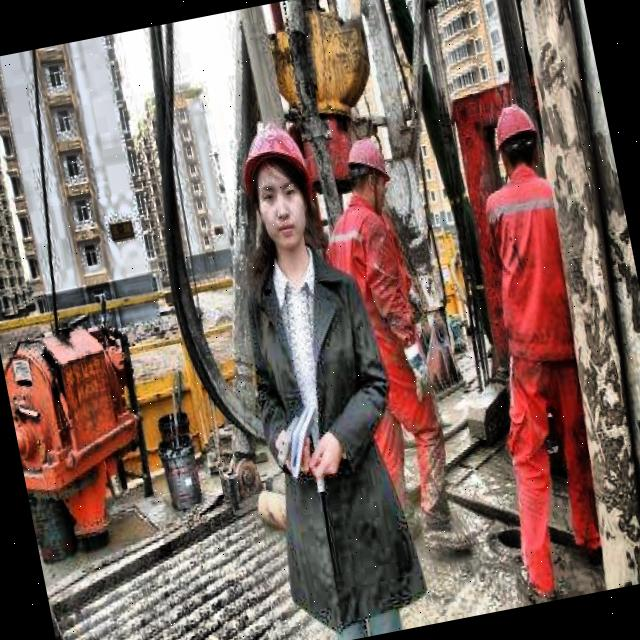helmet: (226, 107, 330, 262), (488, 100, 549, 186), (340, 132, 399, 215)
